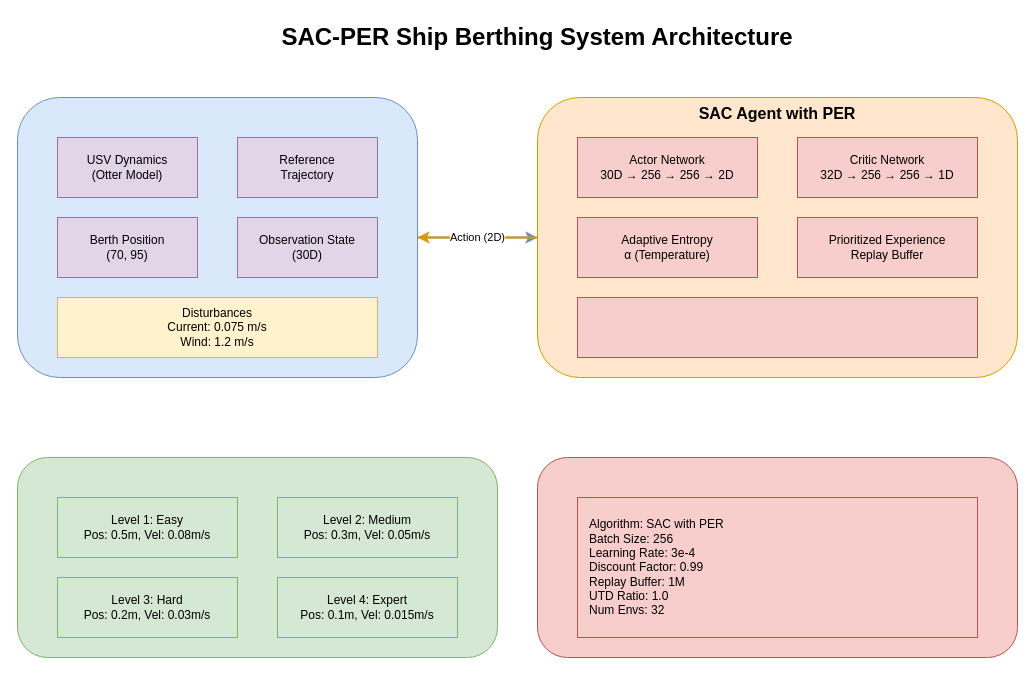
This 1035x675 diagram has some shape labels left out. The box of each missing label's shape, as (x1, y1, x2, y2) in pixels:
Curriculum Learning: (16, 456, 498, 658)
Ship Berthing Environment: (16, 96, 418, 378)
Target Networks τ = 0.005: (576, 296, 978, 358)
Training Configuration: (536, 456, 1018, 658)
